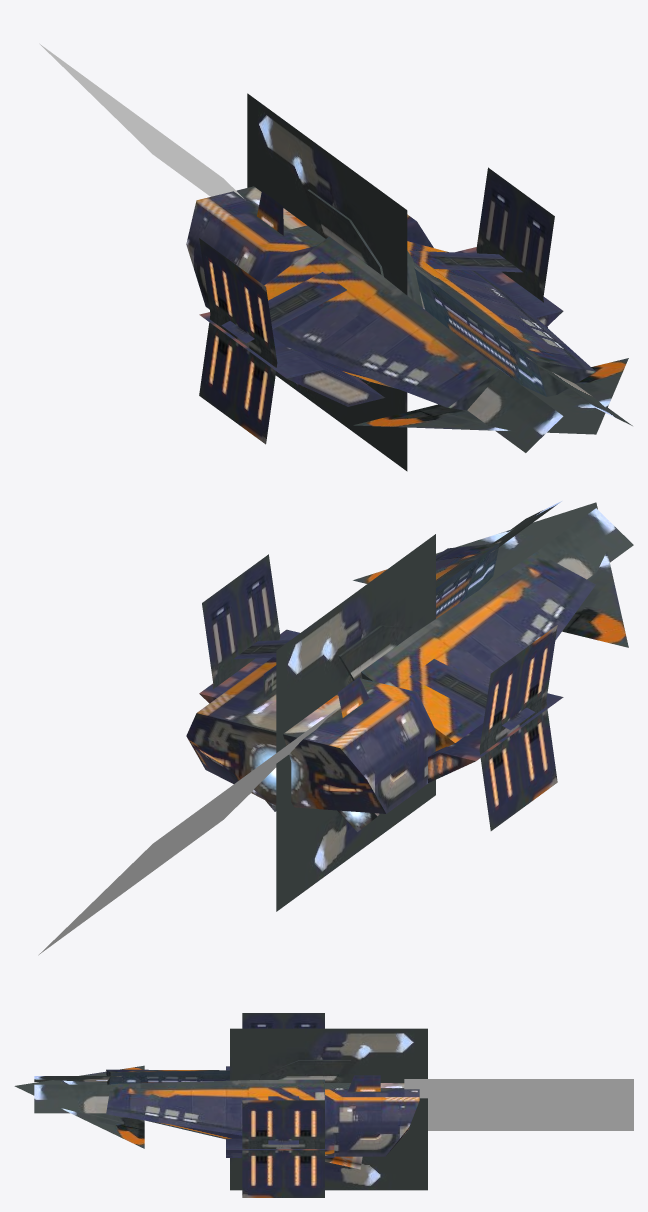
The picture shows the model from 3 angles, top to bottom: view 1: azimuth 30°, elevation 25°; view 2: azimuth 150°, elevation 25°; view 3: azimuth 270°, elevation 25°; orthographic projection. The views are drawn at different scales.
Parts seen in each view (by area): view 1: warship-type-a-lod1; view 2: warship-type-a-lod1; view 3: warship-type-a-lod1.
Boxes of the visible parts, x1,y1,x2,y2 form: warship-type-a-lod1: (39,43,632,471); warship-type-a-lod1: (38,501,633,955); warship-type-a-lod1: (14,1013,633,1197).
Bounding box in the file's own units: 8.55 × 7.32 × 25.43.
Materials: 2 (1 with a texture image).
